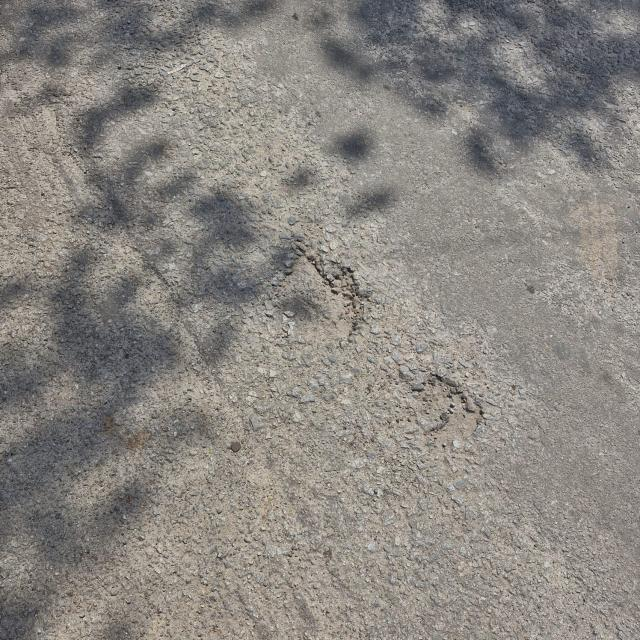pothole: (351, 358, 496, 481), (258, 238, 384, 356)
